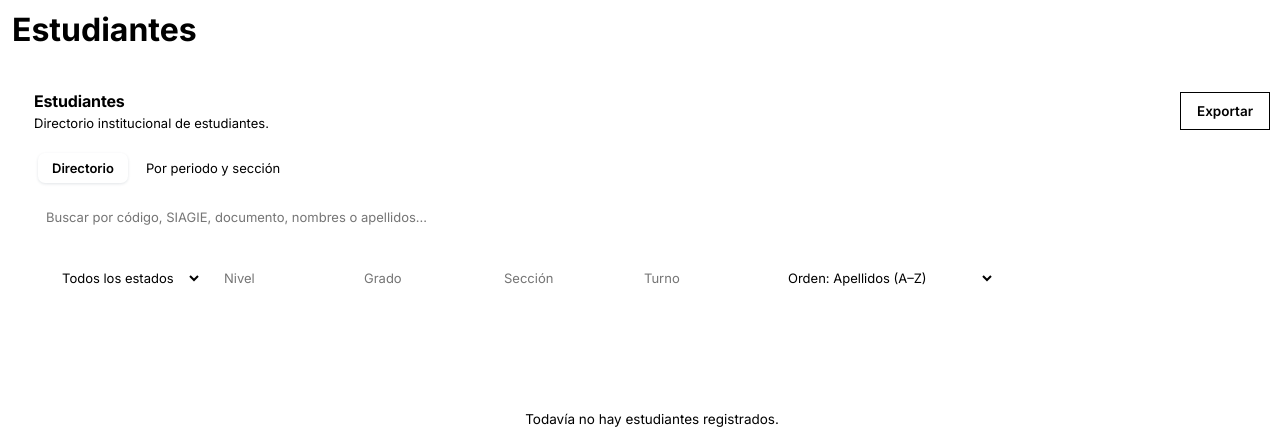
Directorio de estudiantes — listado › distingue directorio vacío de búsqueda sin resultados
The image size is (1287, 444).
Expected: the text "Todavía no hay estudiantes registrados." is shown, [525,411,779,427]
Type "zzqq" into the search field named "Buscar estudiantes" at (652, 217), box [34,201,1270,233]
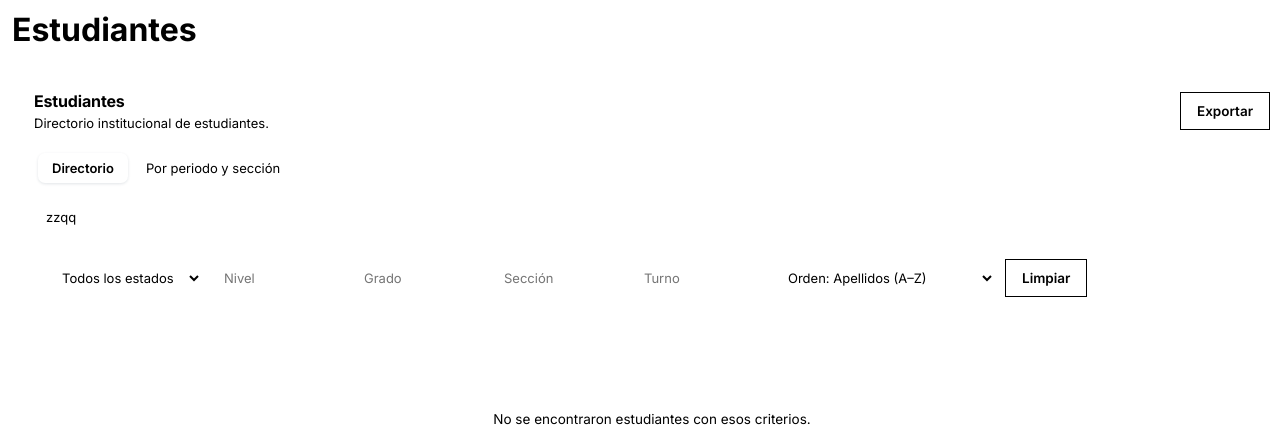
Expected: the text "No se encontraron estudiantes con esos criterios." is shown, [493,411,811,427]
